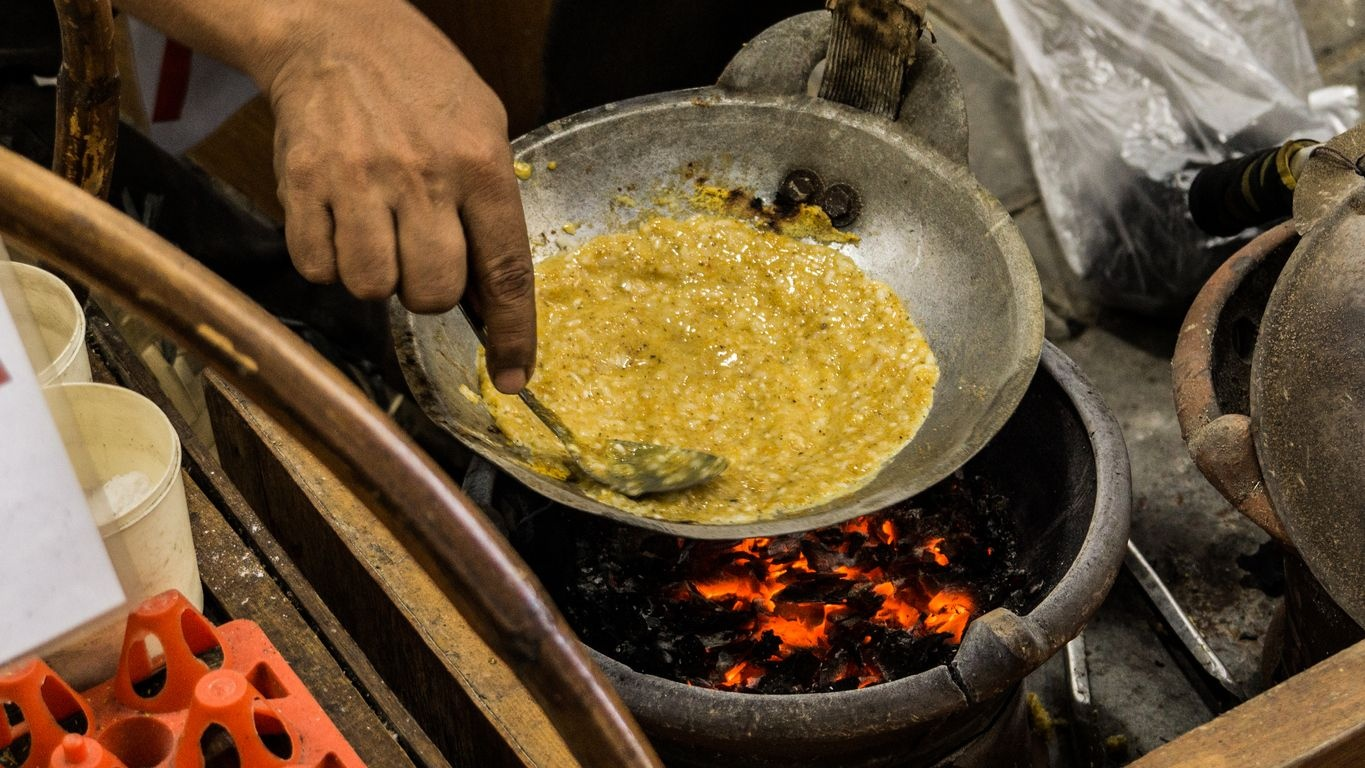kerak_telor: (533, 214, 938, 519)
